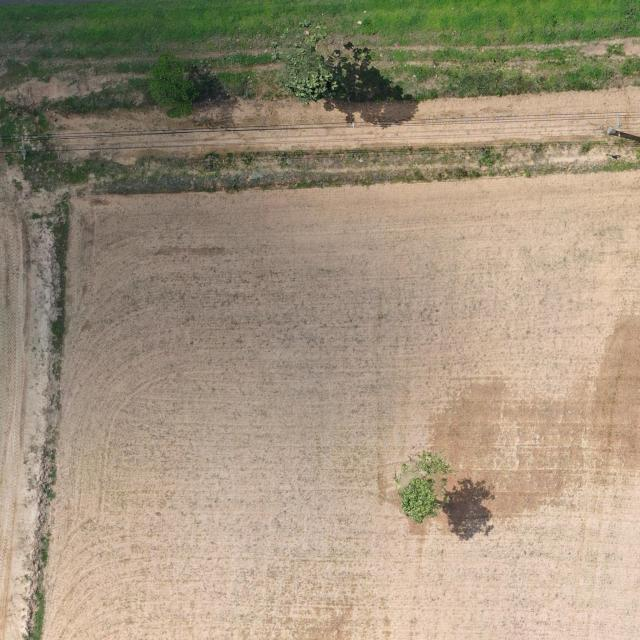Tree: (269, 16, 347, 106), (392, 448, 458, 524), (145, 53, 206, 118)
